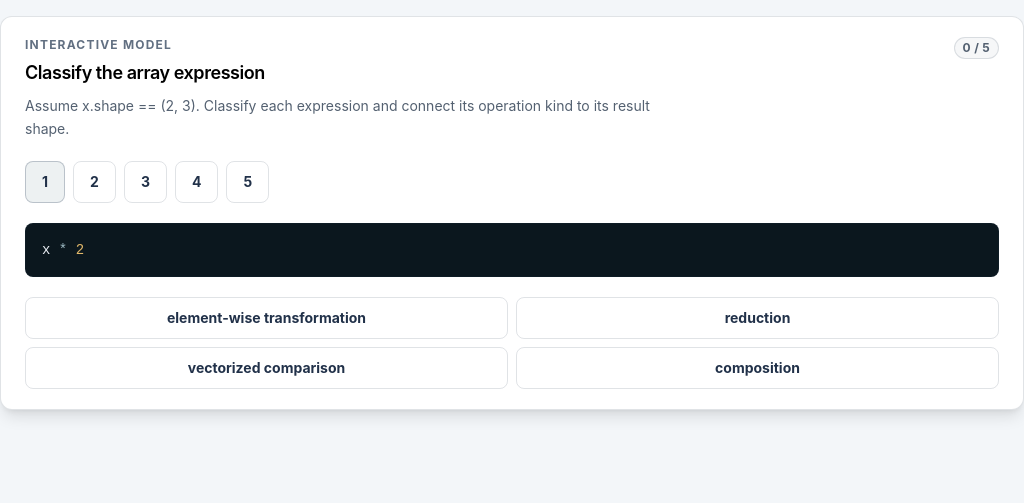
Test: vectorization interactives › classifies comparison followed by reduction as composition
This screenshot has width=1024, height=503.
Click the button "5".
click(248, 182)  # box [226,160,269,202]
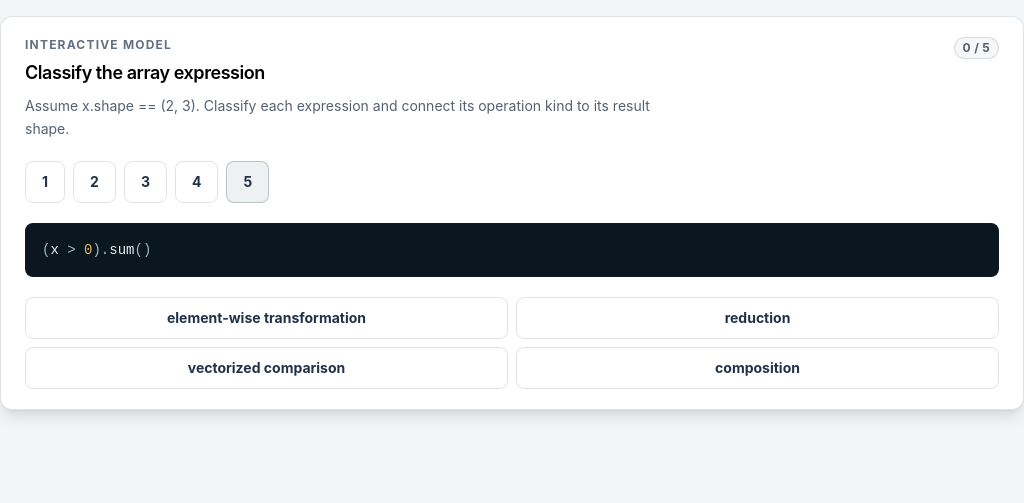
Click the button "composition".
click(758, 368)  # box [516,346,999,388]
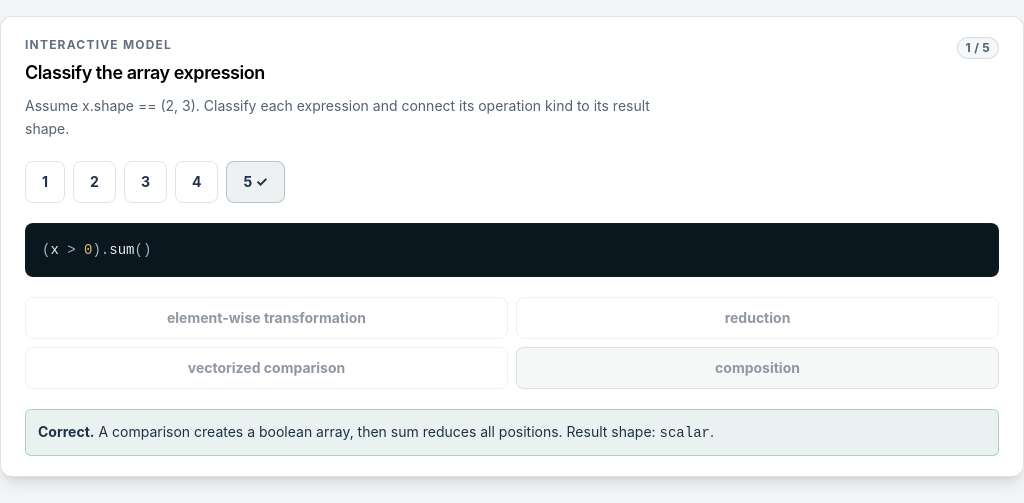
Expected: the message shows "boolean array", [98,422,563,440]
Expected: the message shows "scalar", [660,424,710,440]
